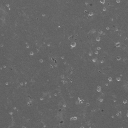corrosion: (68, 115, 79, 123), (114, 41, 123, 50), (95, 85, 103, 93), (70, 41, 77, 49), (95, 35, 102, 43), (76, 97, 84, 104), (107, 76, 114, 83), (28, 50, 35, 57), (87, 11, 94, 17), (98, 97, 105, 103), (91, 57, 97, 63), (105, 25, 111, 31), (116, 77, 122, 83), (96, 45, 102, 51), (101, 7, 108, 12), (122, 98, 128, 103), (99, 1, 106, 5)
